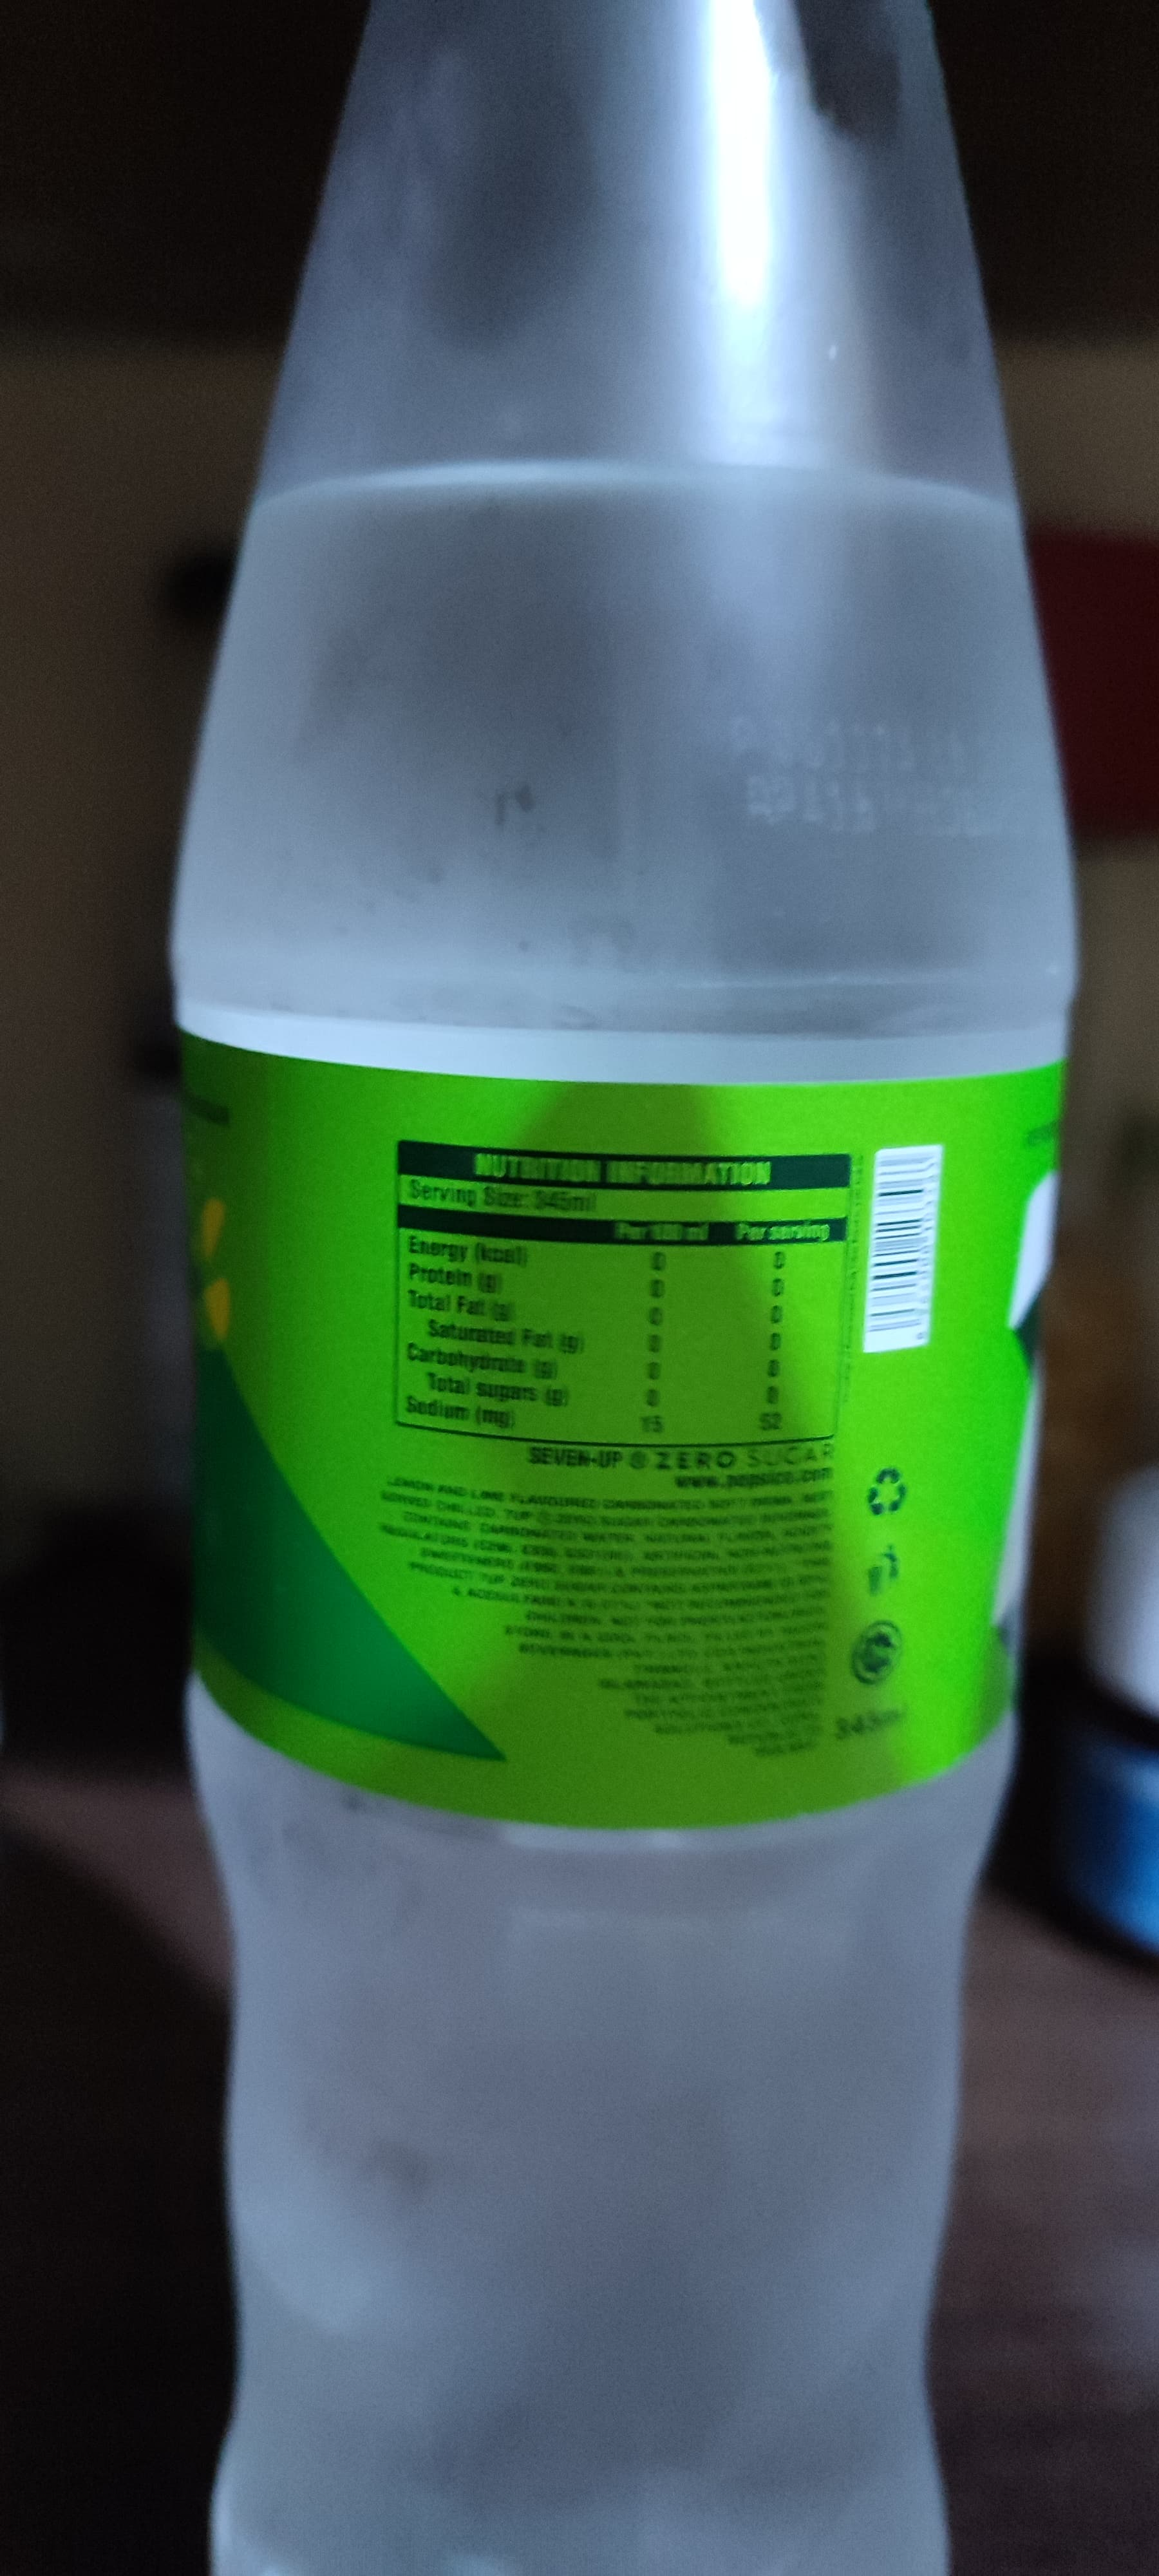table: (386, 1135, 864, 1457)
